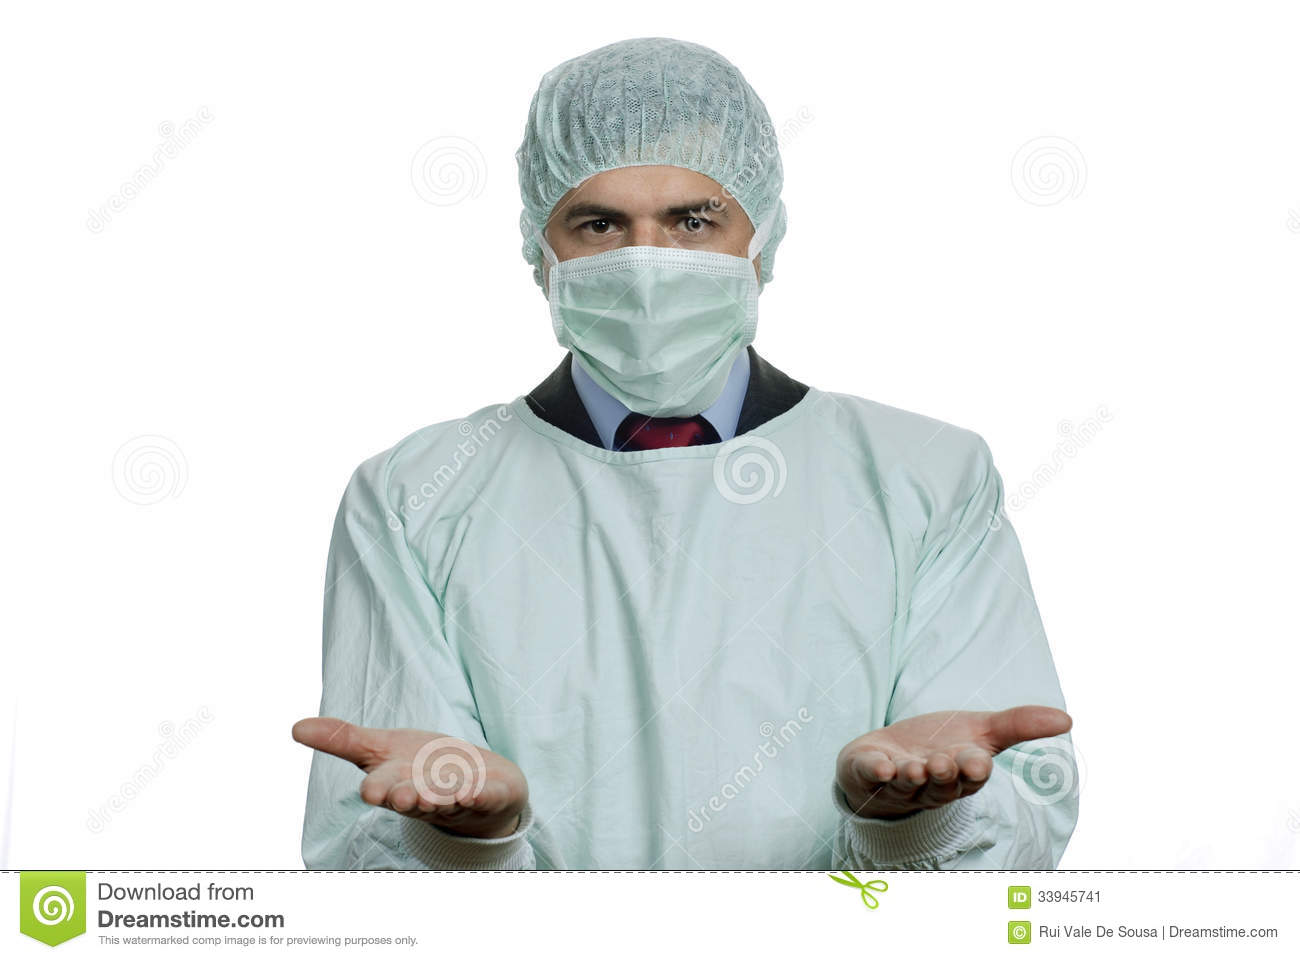mask: (557, 246, 761, 421)
